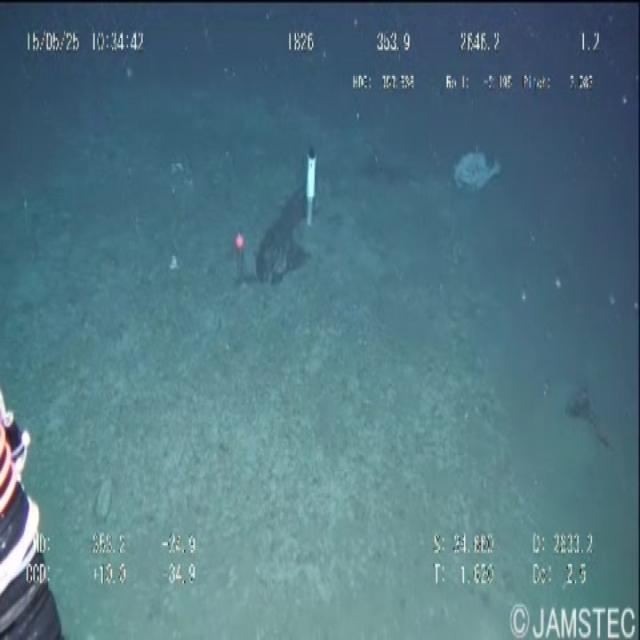Metal: (296, 128, 326, 235)
